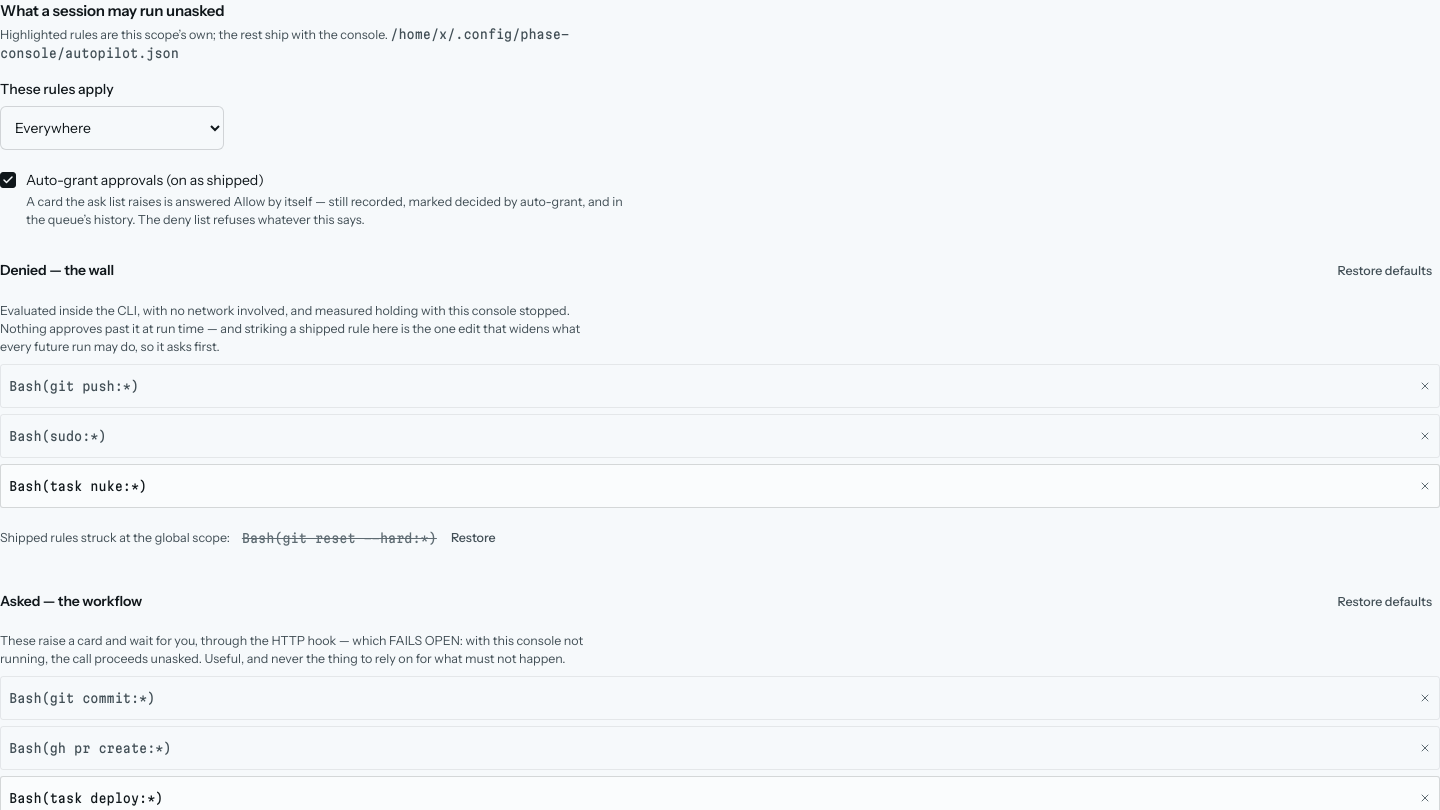
Test: striking a rule › Keep the wall answers no: nothing is sent and the rule stays
Expected: the heading "What a session may run unasked" is shown, [0,0,224,21]
Click the button named "Remove Bash(git push:*)". click: click(1425, 386)
box: [1419,380,1431,392]
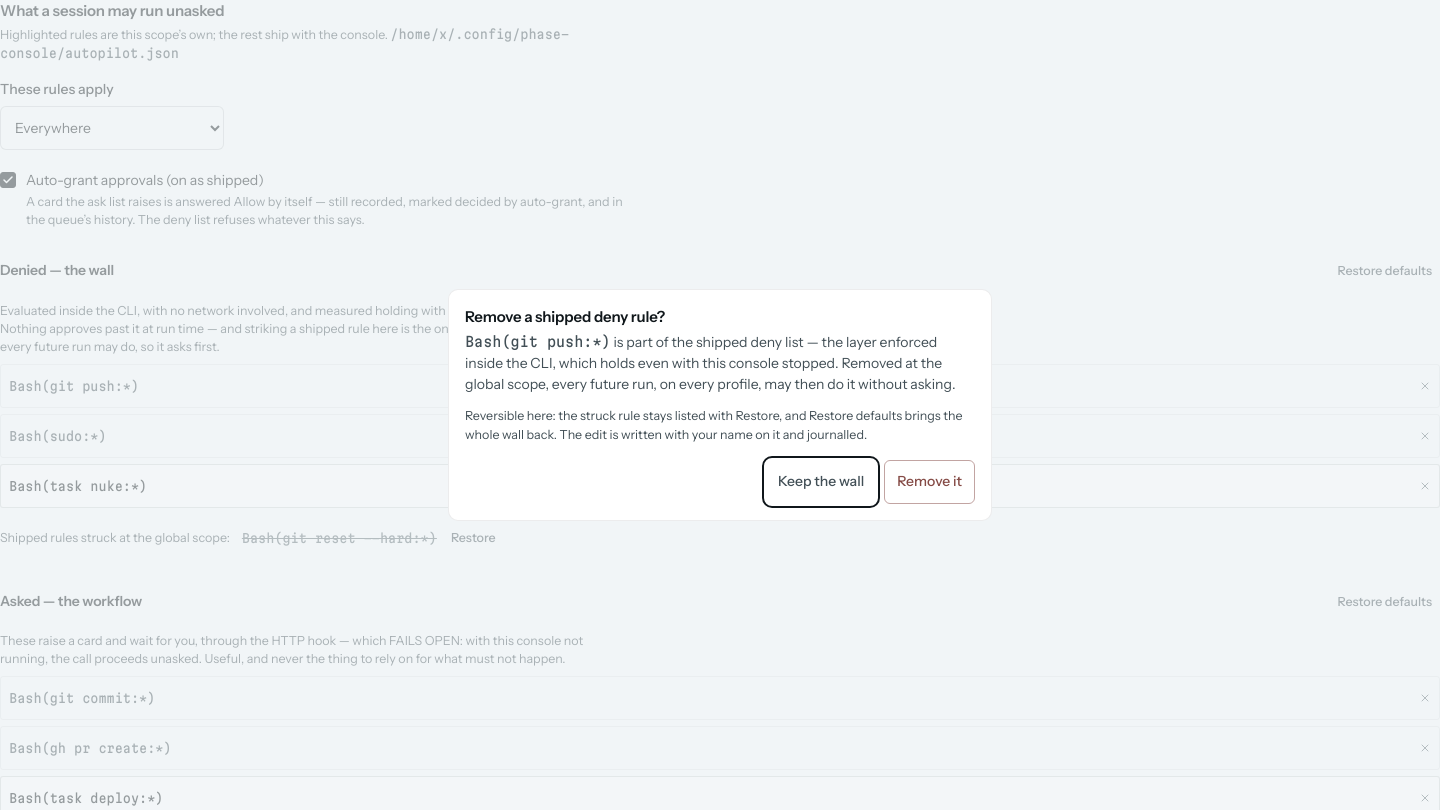
Click the button "Keep the wall". click: click(821, 482)
box: [766,460,876,504]
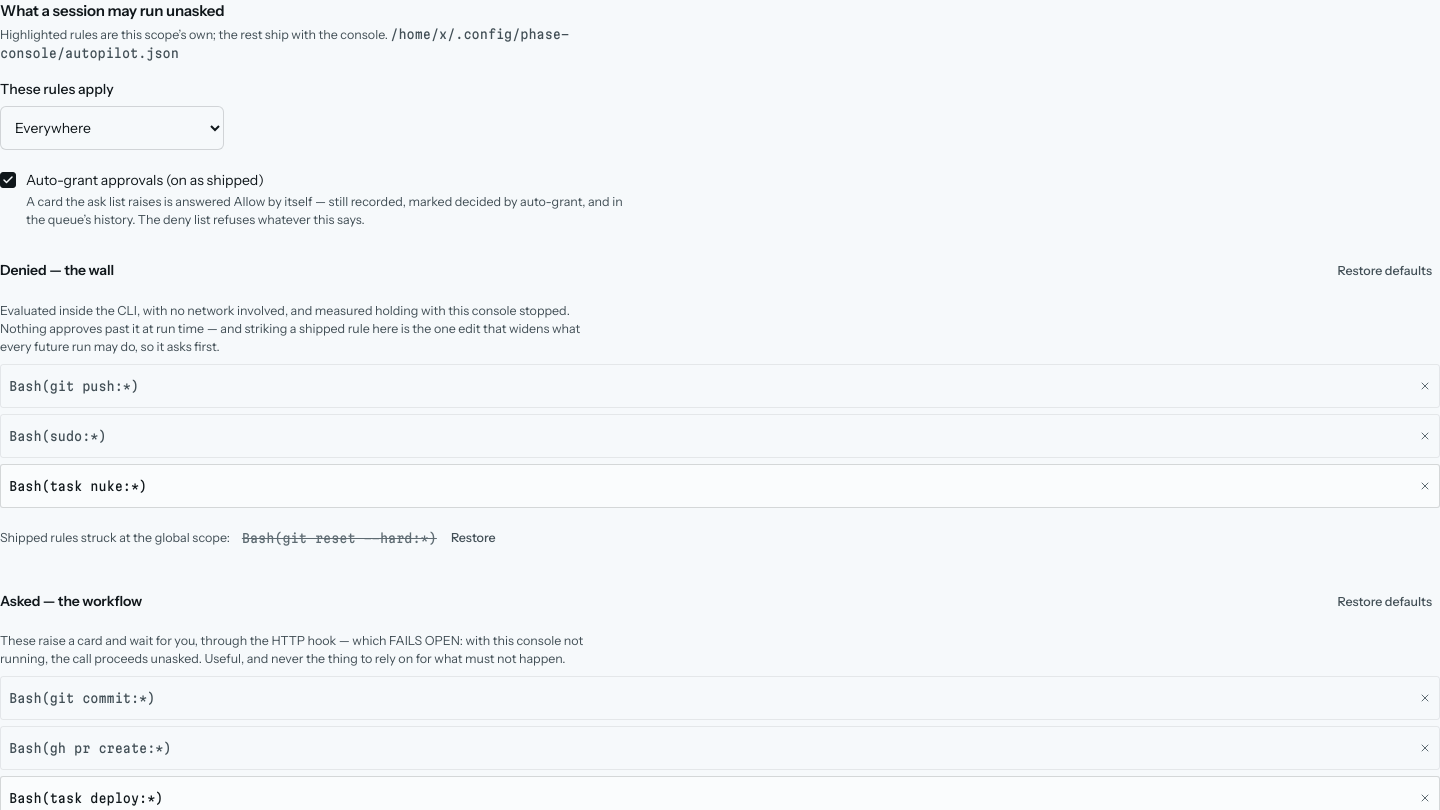
Expected: the text "Bash(git push:*)" is shown, [9,377,139,395]
Expected: the dialog is gone
